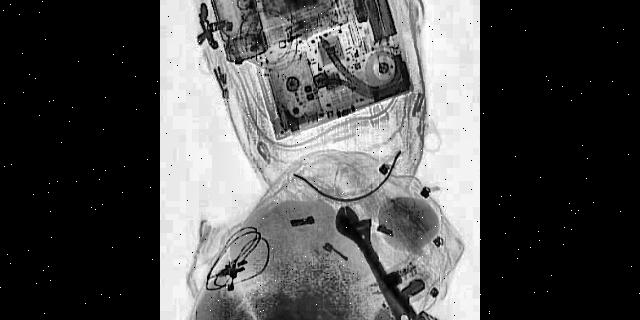Wrench: (331, 189, 412, 320)
